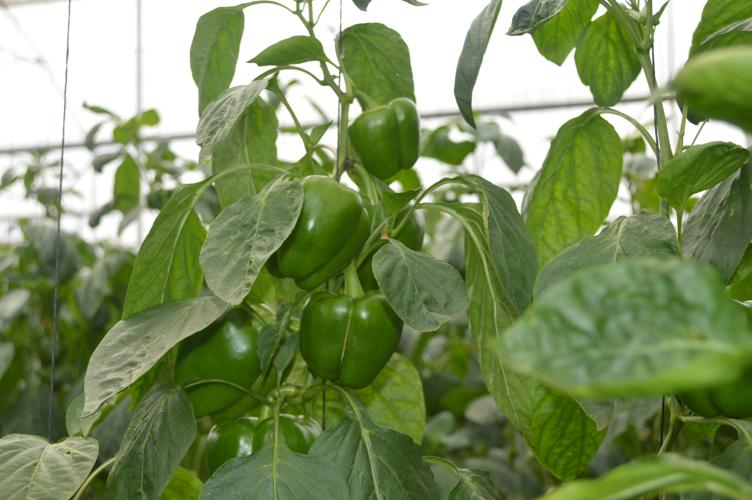BellPepper: (167, 308, 296, 414), (269, 176, 369, 282), (297, 294, 402, 388), (201, 414, 323, 472), (346, 98, 417, 182)
